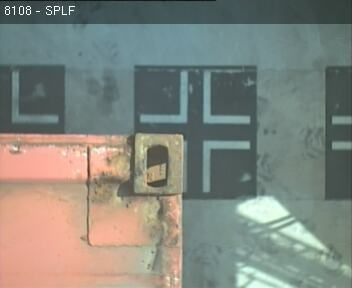groundmarker_1: (140, 69, 251, 124)
